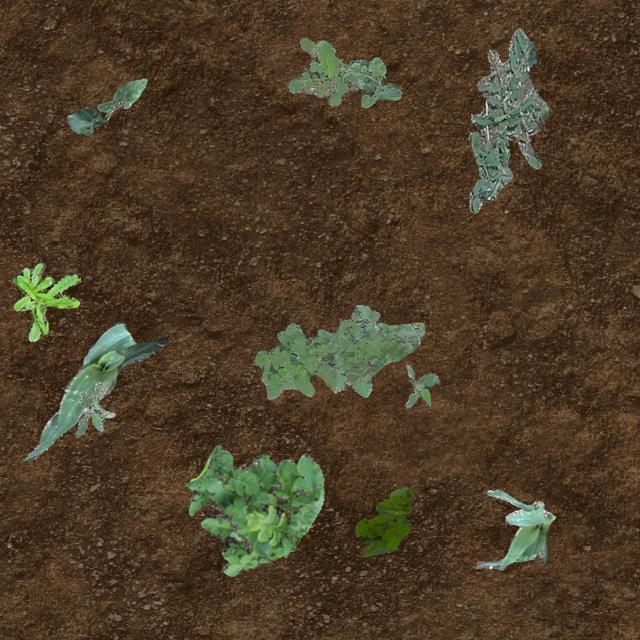crop: (24, 320, 168, 460), (476, 489, 554, 568), (66, 78, 146, 134)
weed: (184, 444, 324, 576), (254, 304, 424, 398), (468, 28, 548, 212), (288, 36, 400, 106), (12, 260, 80, 340), (353, 486, 412, 556), (74, 381, 114, 436), (404, 362, 438, 407)
